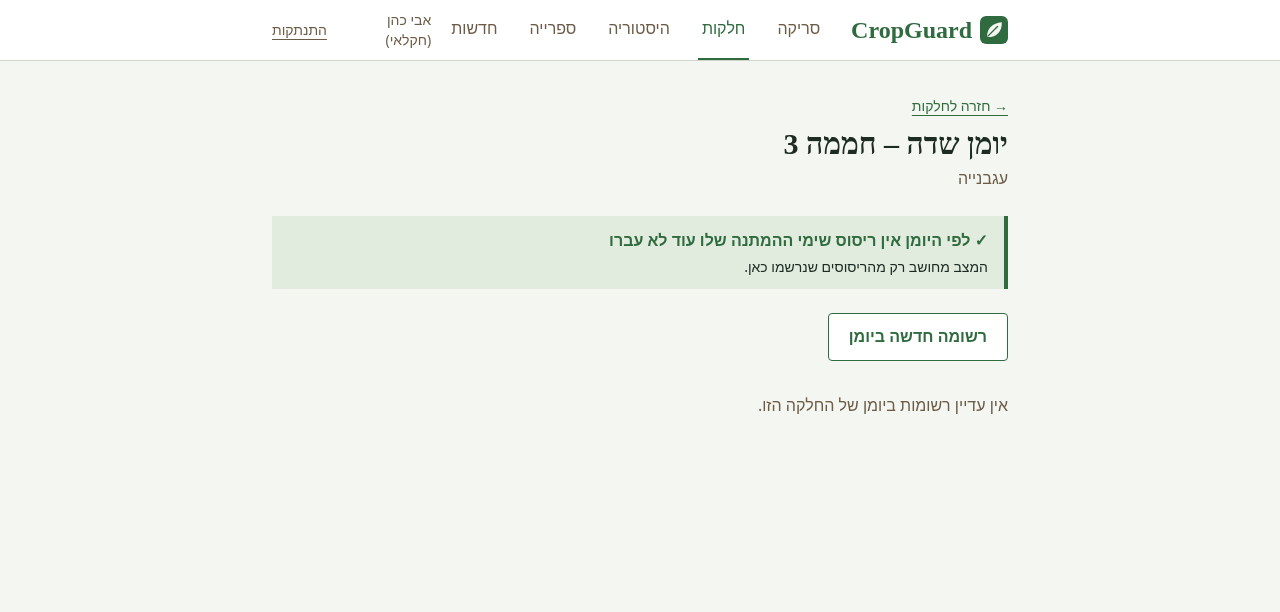
Scenario: field journal page › rejects a future date
The image size is (1280, 612).
Click the button "רשומה חדשה ביומן". click: (918, 337)
box: x1=828 y1=313 x2=1008 y2=361
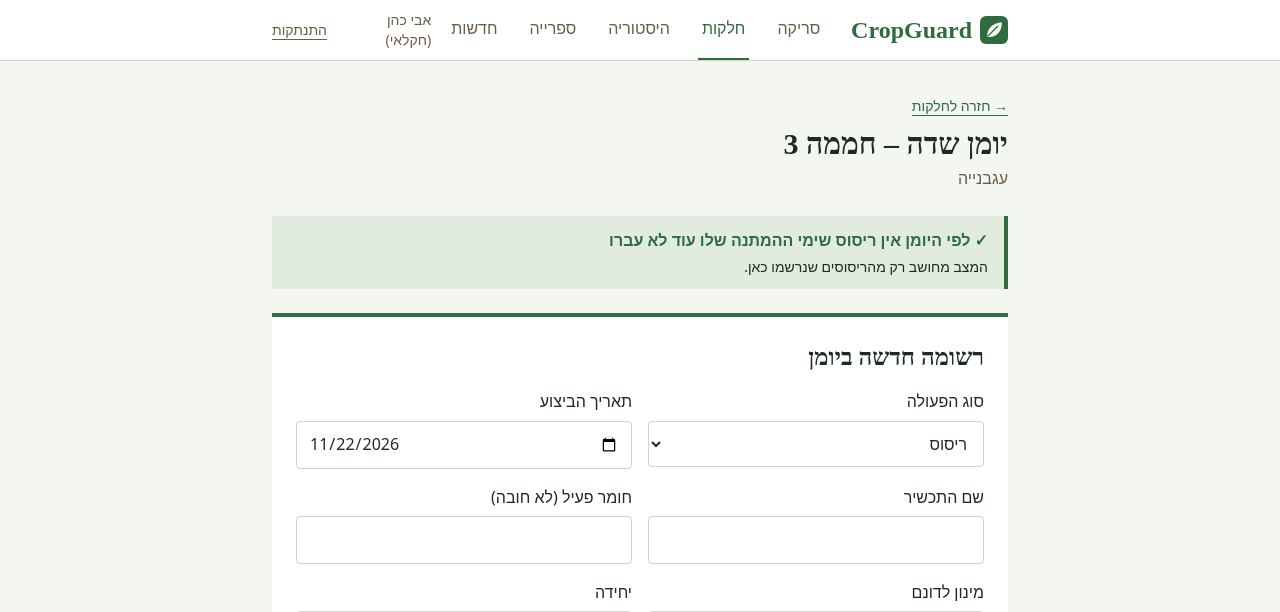
Type "2026-11-30" into the date field labelled "תאריך הביצוע". click: (464, 445)
box: x1=296 y1=421 x2=632 y2=469
(page scrolled)
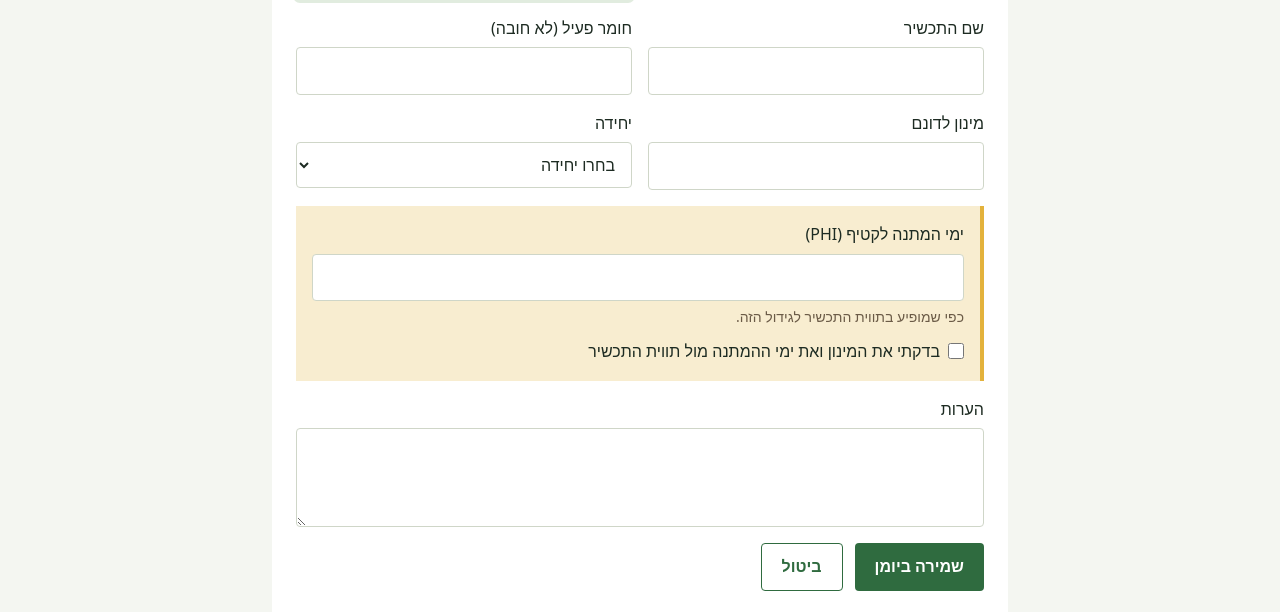
Click the button "שמירה ביומן". click: (919, 567)
box: x1=855 y1=543 x2=984 y2=591
(page scrolled)
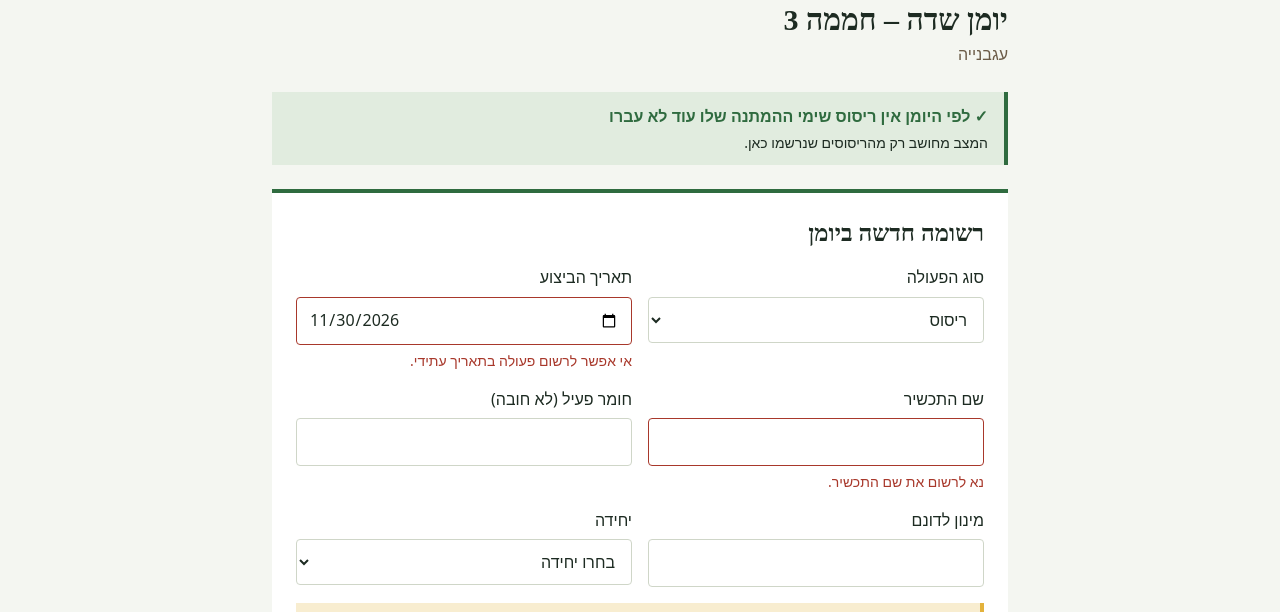
Now the text "אי אפשר לרשום פעולה בתאריך עתידי." is shown, box x1=410 y1=351 x2=632 y2=370
